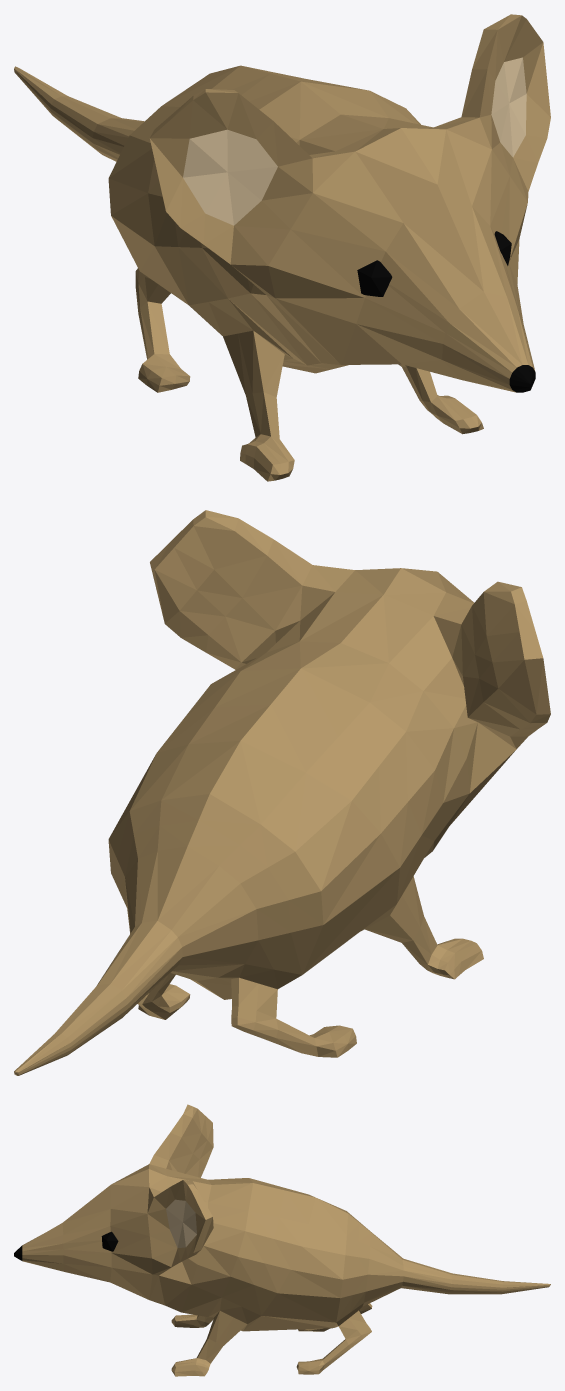
File: Ttouch.obj
3 renders of one model, top to bottom at view 1: azimuth 30°, elevation 25°; view 2: azimuth 150°, elevation 25°; view 3: azimuth 270°, elevation 25°, orthographic. The views are drawn at different scales.
Visible parts, largest first — view 1: Ttouch_Rigged; view 2: Ttouch_Rigged; view 3: Ttouch_Rigged.
Boxes of the visible parts, x1,y1,x2,y2 form: Ttouch_Rigged: (14,14,550,481); Ttouch_Rigged: (14,510,550,1075); Ttouch_Rigged: (14,1104,550,1376).
Bounding box in the file's own units: 0.4951 × 0.4719 × 1.12.
1 material, 1 textured.
